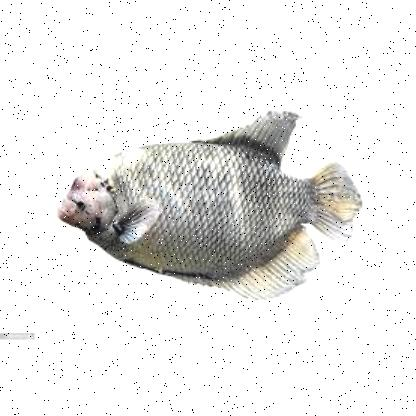gurame: (58, 124, 352, 298)
